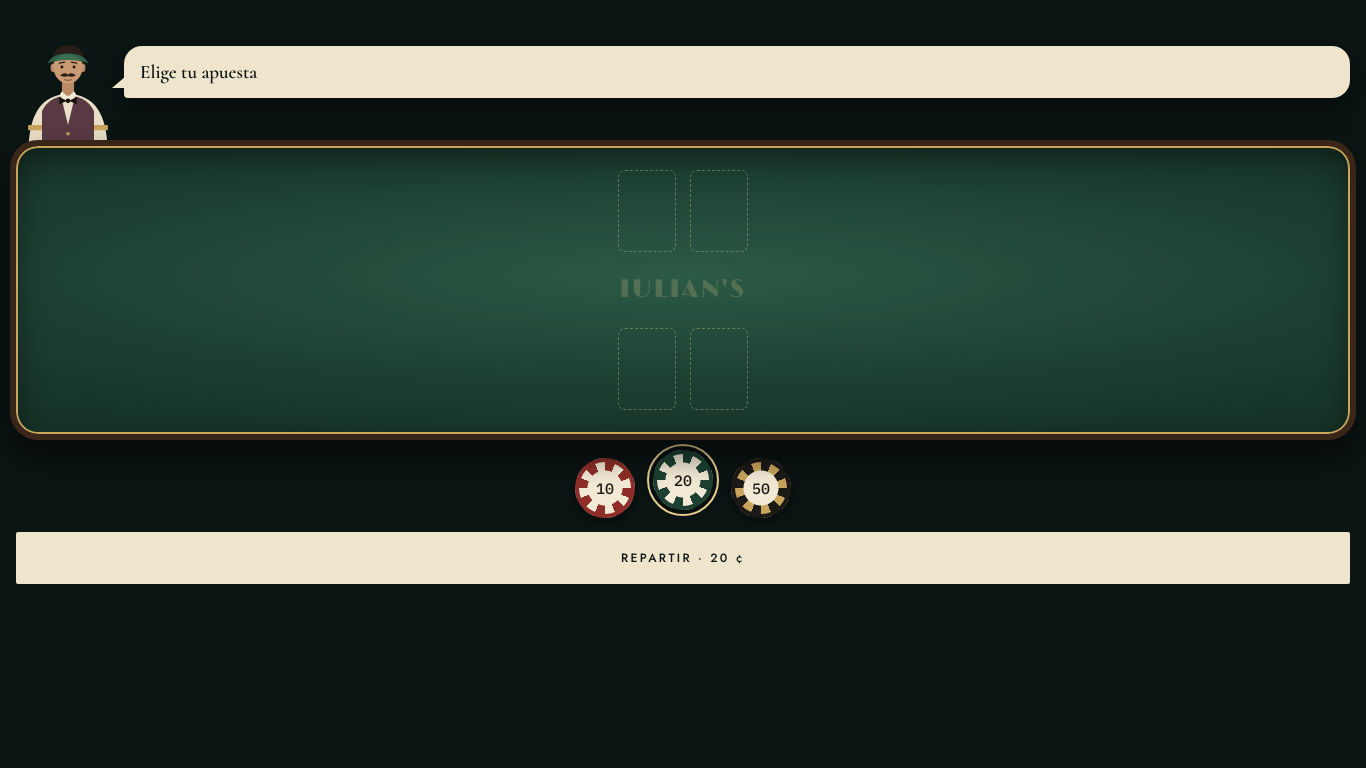
Test: BlackjackTable › betting › moves to the open hand when the server says one is already in progress
Click the button with class "action": click(683, 558) [16, 532, 1350, 584]
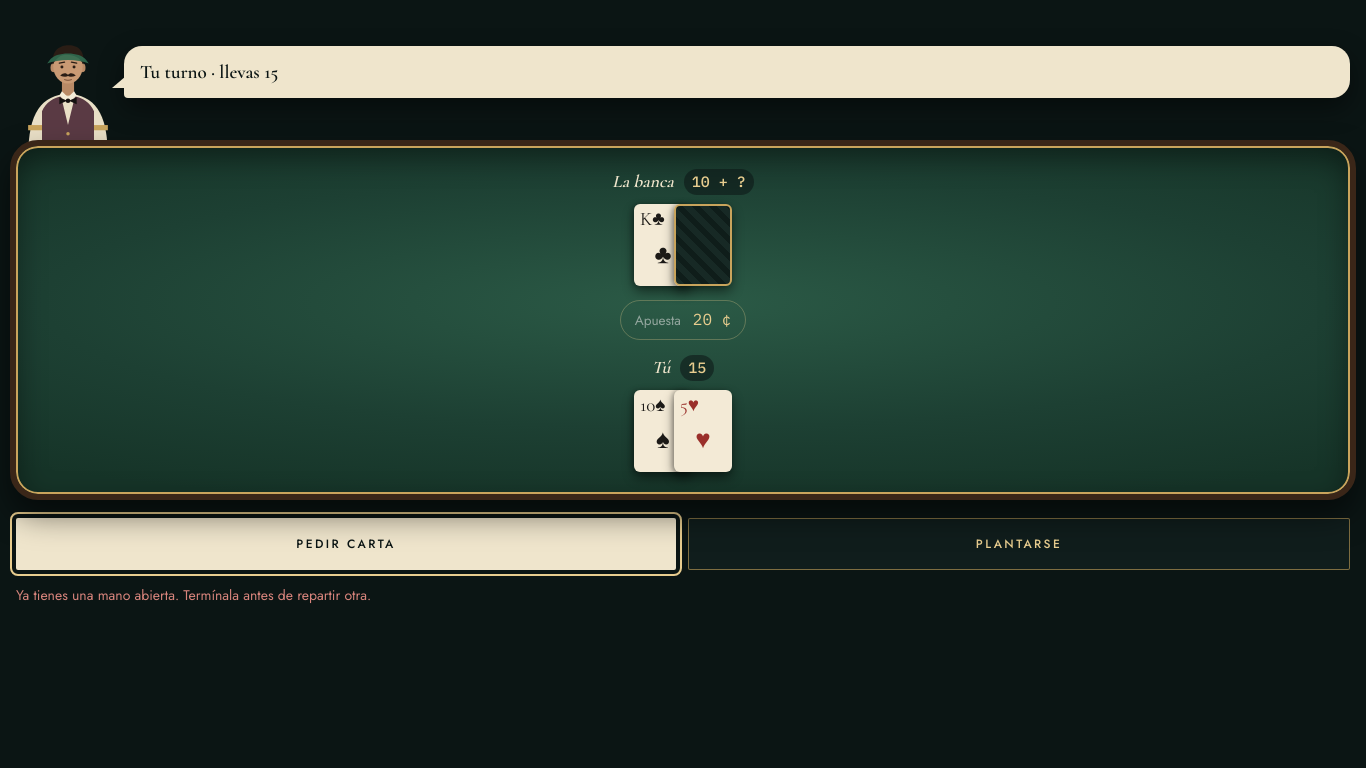
Expected: the message "Ya tienes una mano abierta. Termínala antes de repartir otra." is shown, [16, 585, 371, 605]
Expected: the number of buttons with class "action" is 2, [16, 518, 676, 570]; [688, 518, 1350, 570]
